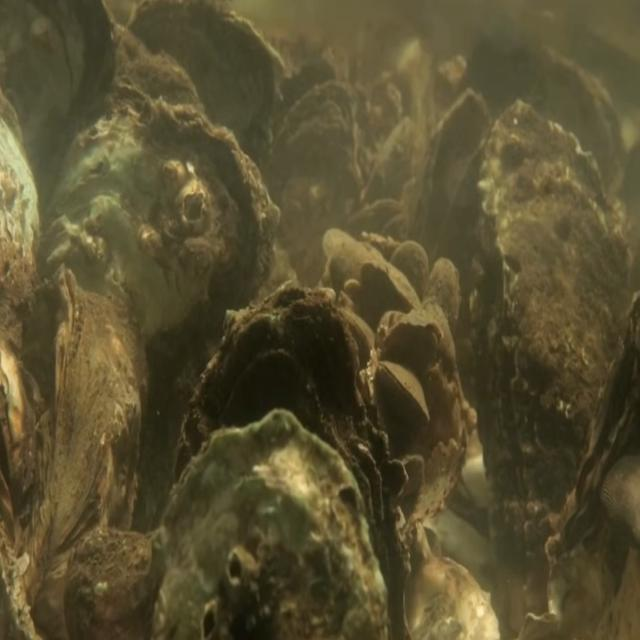Oyster-Closed: (47, 94, 281, 508), (177, 279, 408, 640), (469, 99, 629, 542), (150, 405, 389, 640), (376, 360, 431, 423), (382, 318, 444, 366)
Oyster-Indeterminate: (29, 262, 148, 640), (414, 87, 496, 318), (362, 256, 422, 310), (389, 239, 428, 310), (427, 255, 460, 331)
Oyster-Open: (260, 58, 356, 270)
